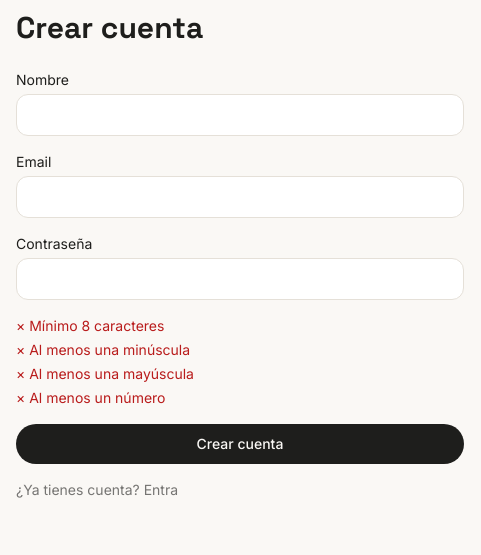
auth pages › shows taken-email message on 409
This screenshot has width=481, height=555.
Type "Test" into the field labelled "Nombre".
click(240, 115); type("Test")  # box [16,94,464,136]
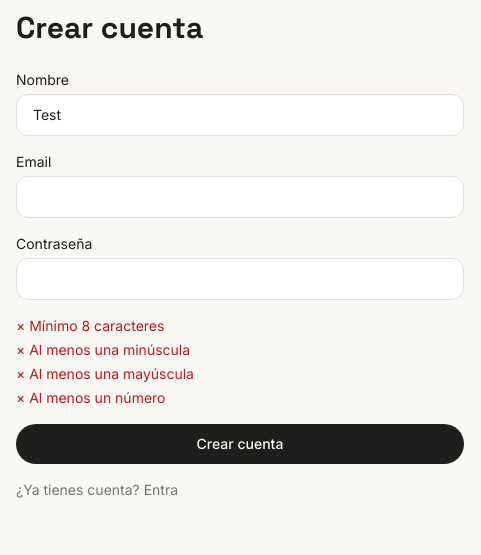
Type "a@desklab.es" into the field labelled "Email".
click(240, 197); type("a@desklab.es")  # box [16,176,464,218]
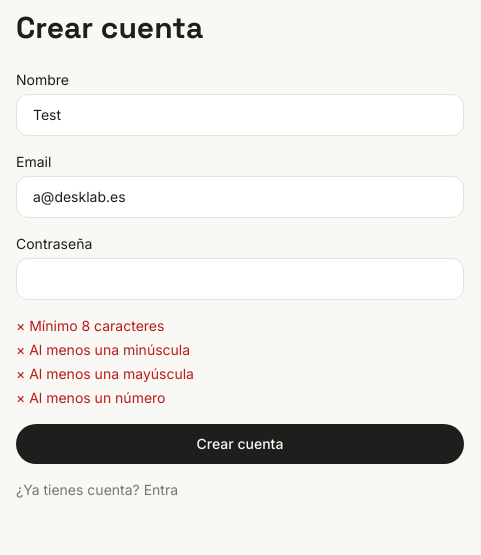
Type "password123" into the password field labelled "Contraseña".
click(240, 279); type("password123")  # box [16,258,464,300]
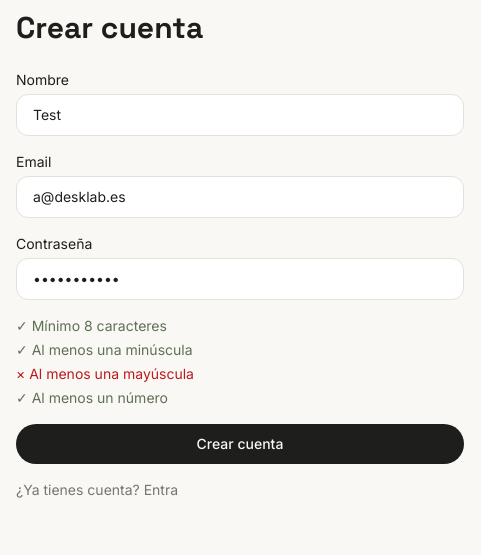
Click the button "Crear cuenta".
click(240, 444)  # box [16,424,464,464]
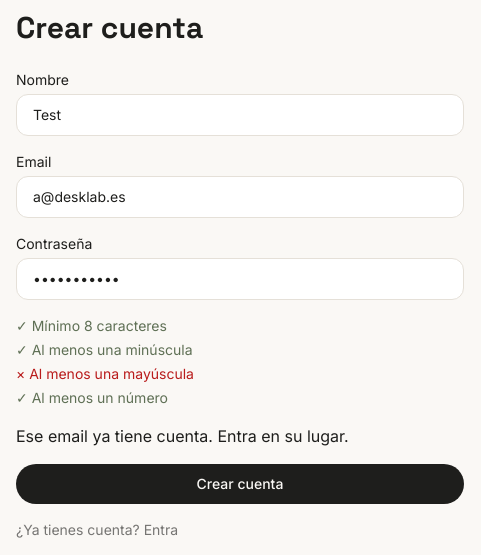
Expected: the text "Ese email ya tiene cuenta. Entra en su lugar." is shown, [16,426,349,446]
